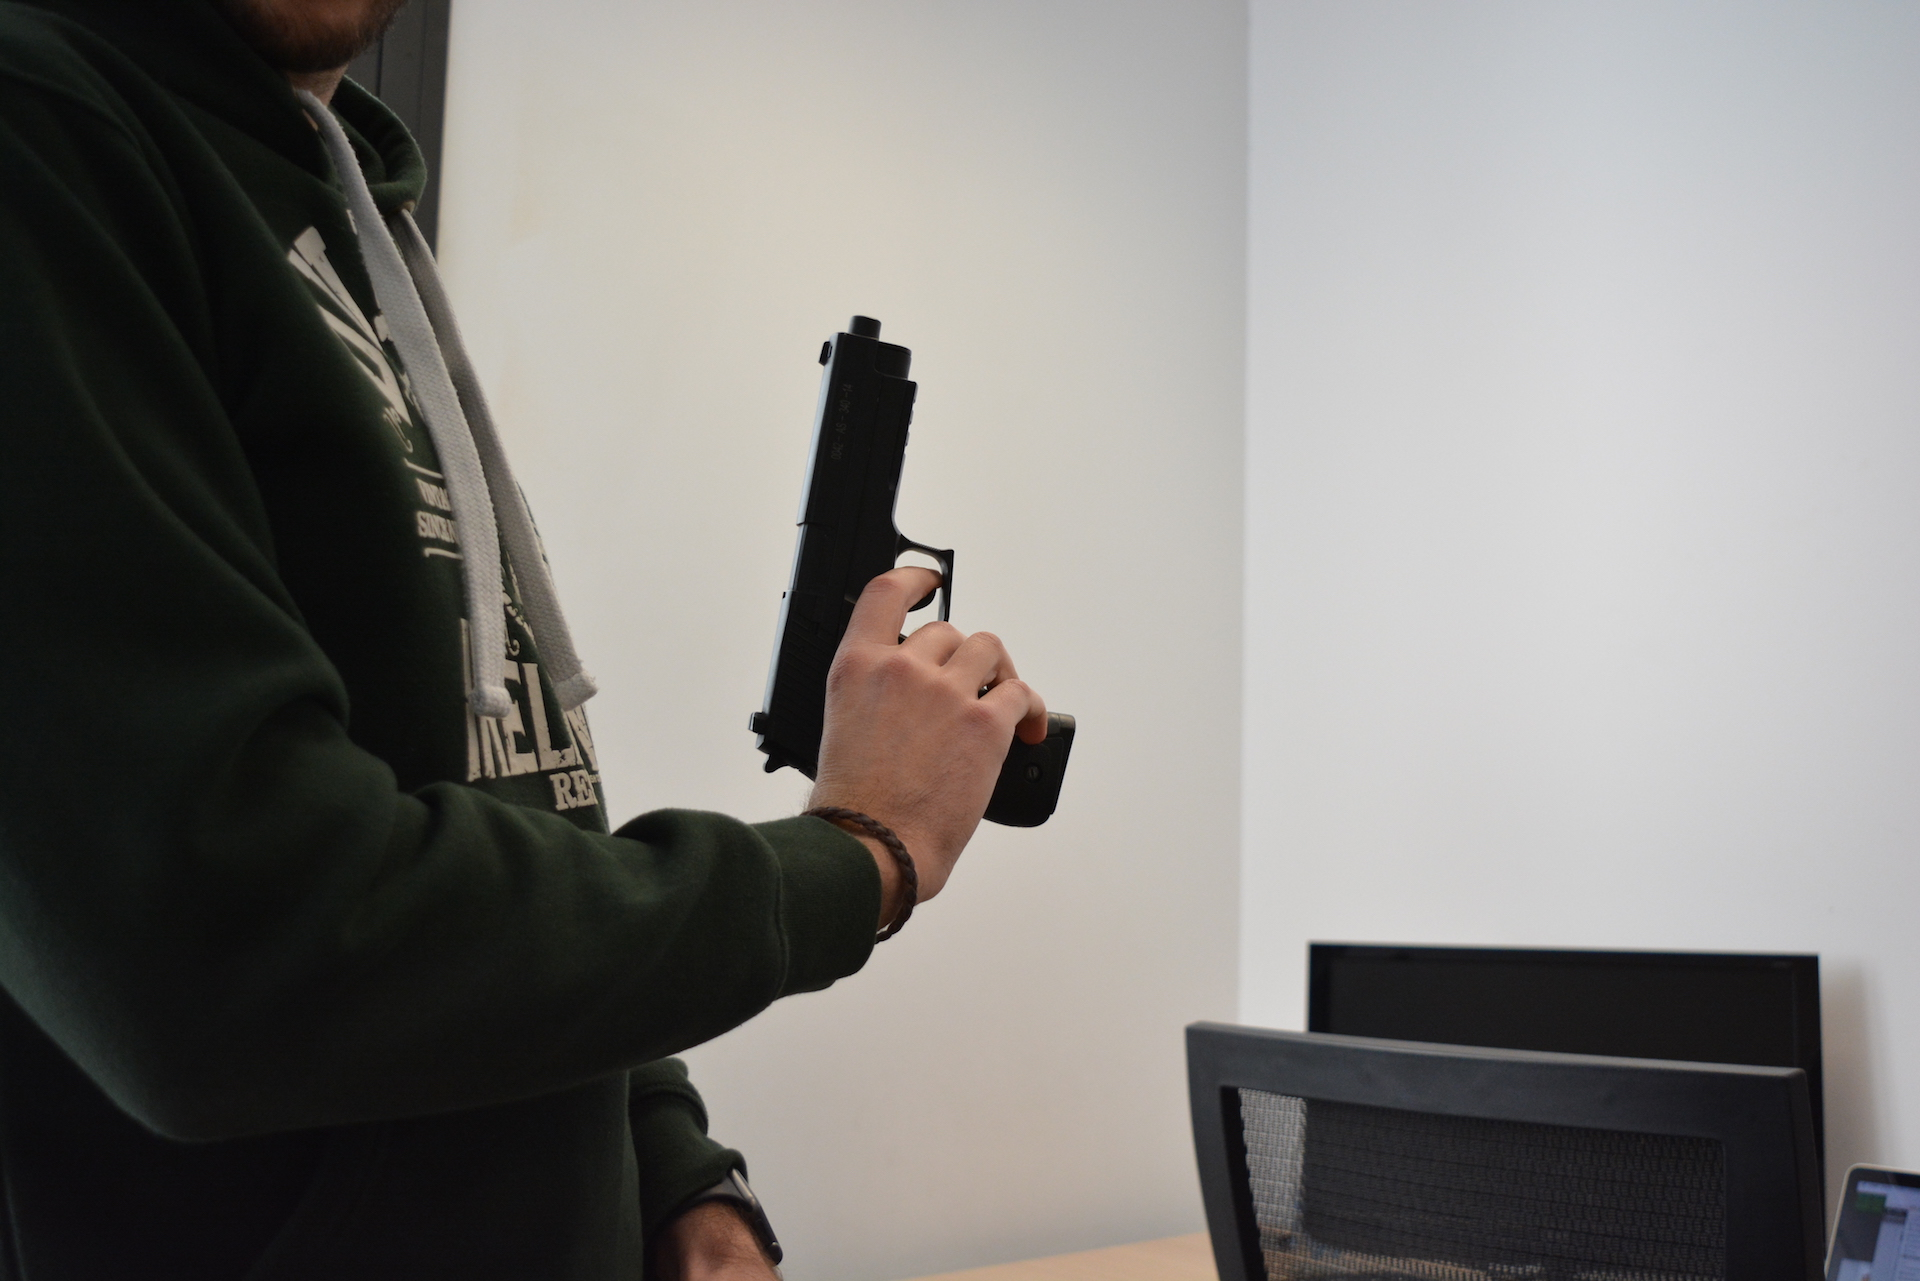pistol: (746, 313, 1079, 834)
